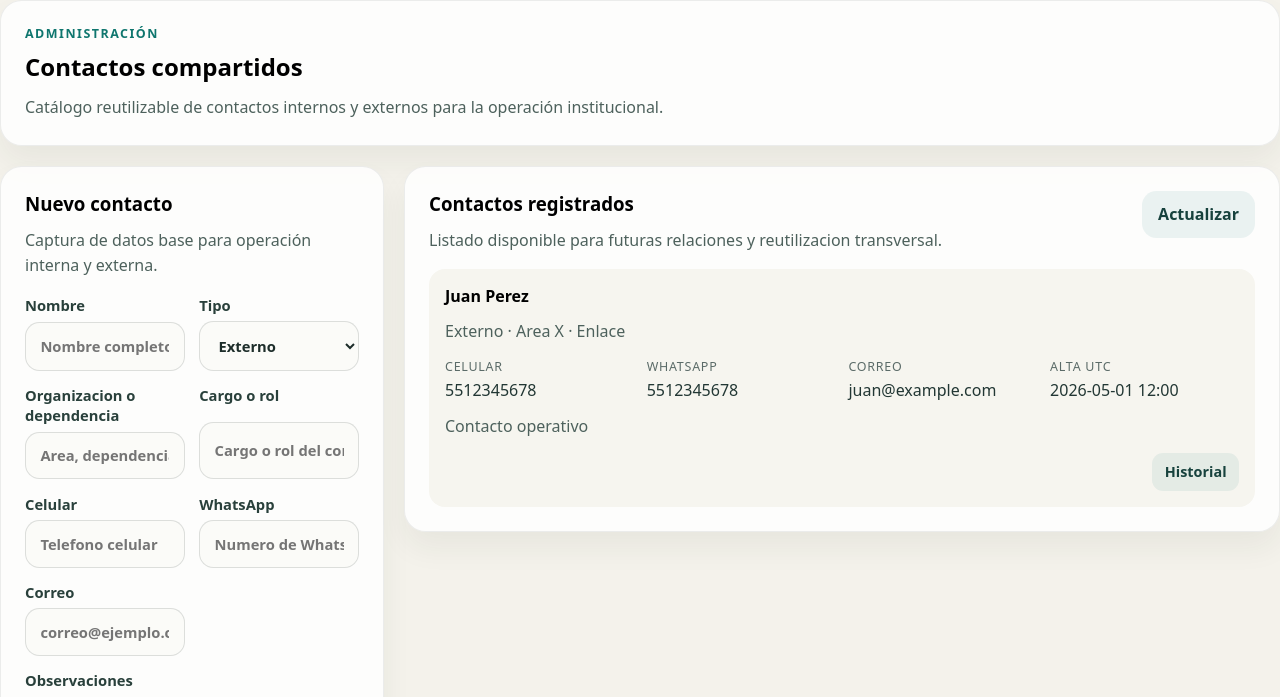
Test: ContactsPageComponent › renders intervention details with readable labels
Click the button "Historial".
click(1196, 472)  # box [1152,453,1239,491]
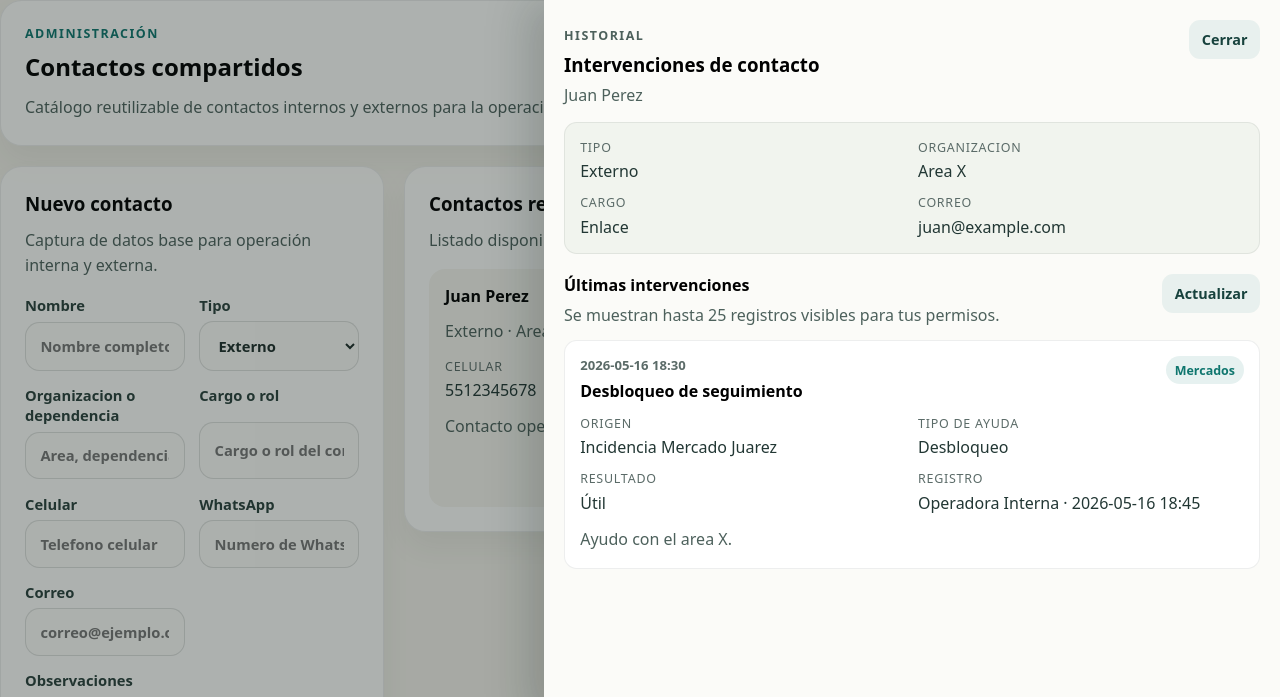
expect the text "Desbloqueo de seguimiento" is shown: met, box [580,380,803,402]
expect the text "Mercados" is shown: met, box [1166,356,1244,384]
expect the text "Desbloqueo" is shown: met, box [580,380,803,402]
